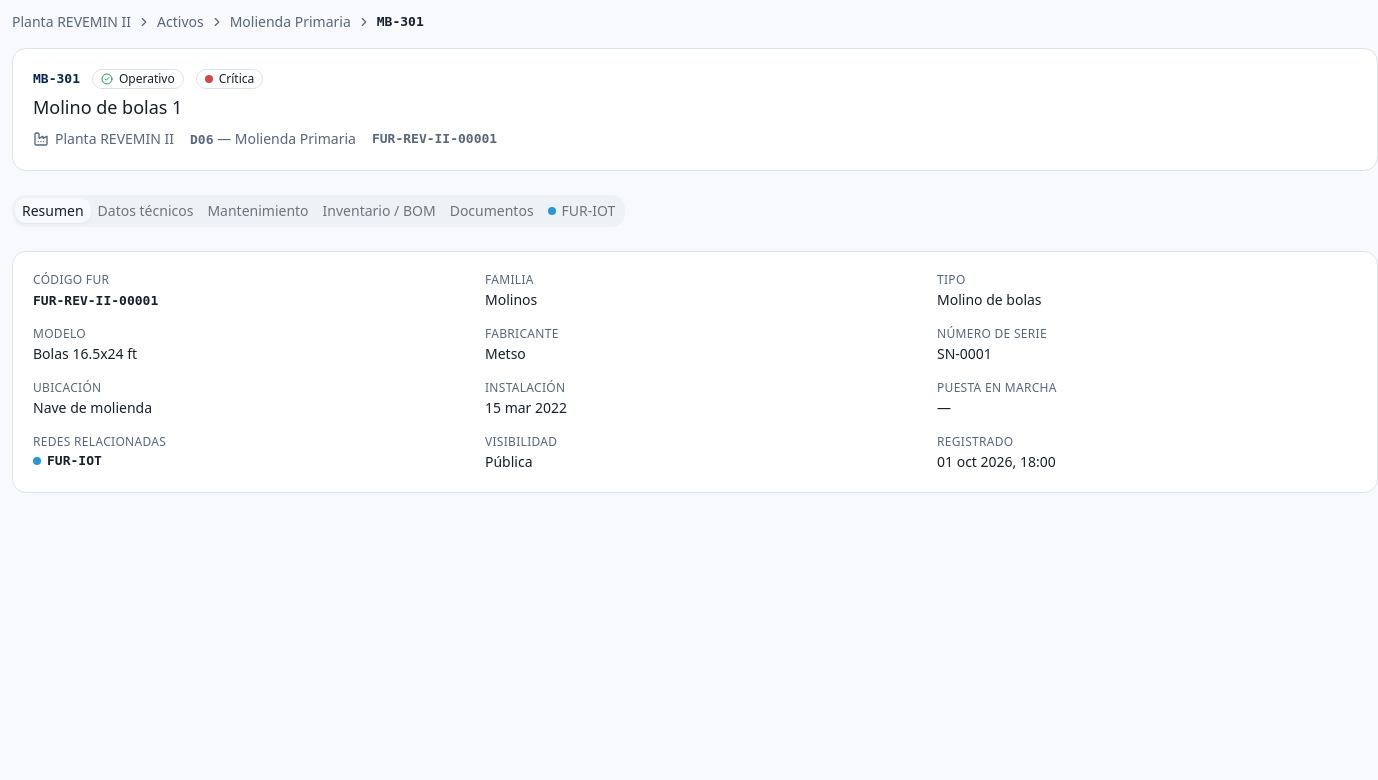
Test: Ficha FUR del activo › Datos técnicos: especificaciones del modelo y datos técnicos
Click the tab "Datos técnicos". click: (146, 211)
box: top-left (91, 198), bottom-right (200, 223)
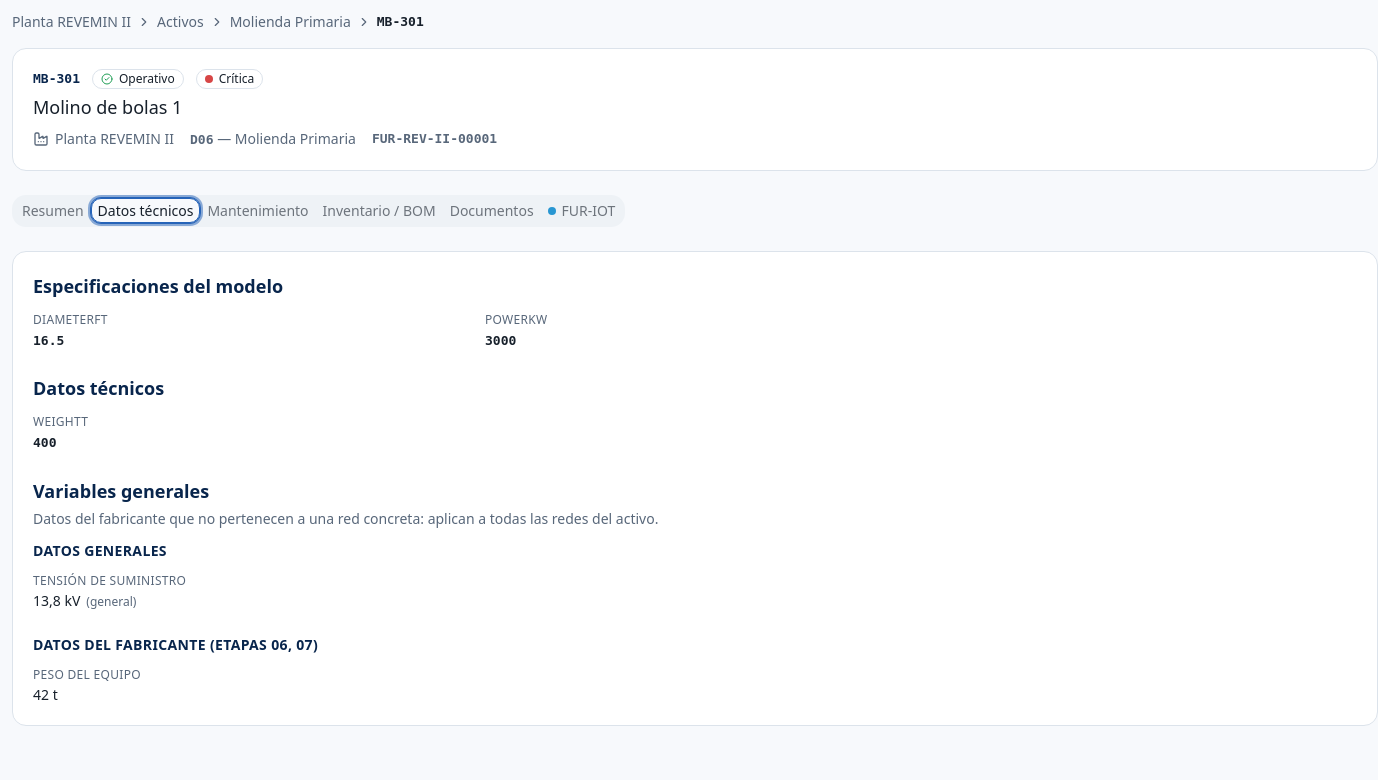
Expected: the text "powerKw" is shown, top-left (485, 311), bottom-right (548, 328)
Expected: the text "3000" is shown, top-left (485, 333), bottom-right (516, 348)
Expected: the text "weightT" is shown, top-left (33, 413), bottom-right (88, 430)
